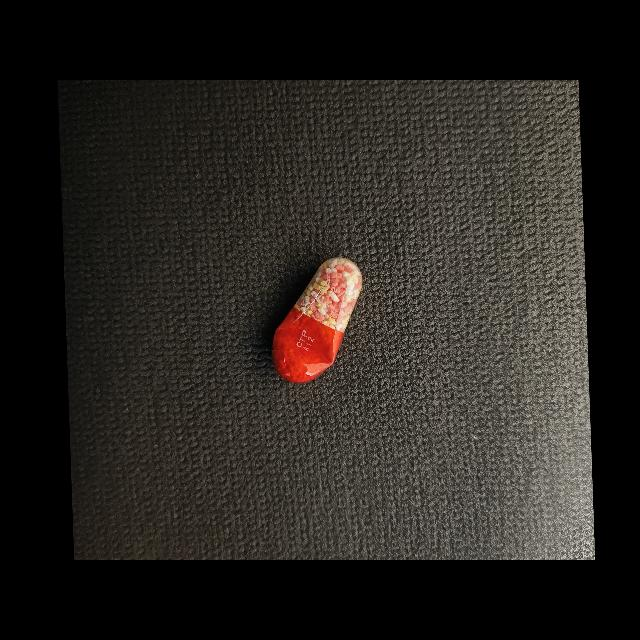Defective Capsule: (272, 257, 363, 383)
